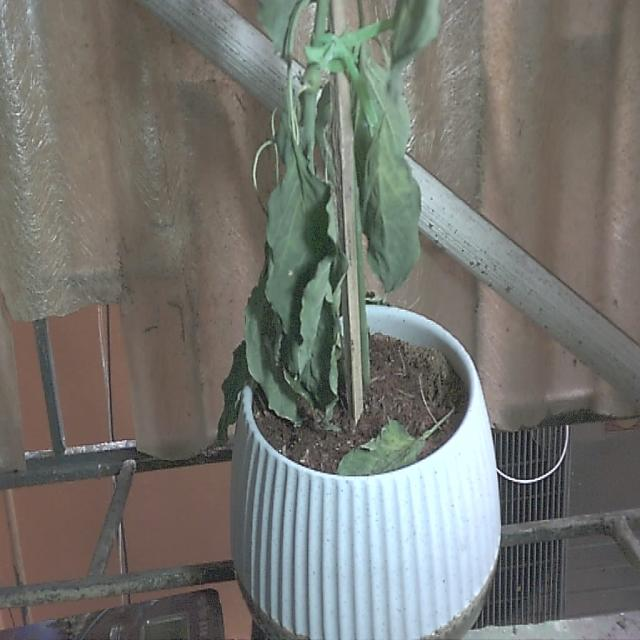Leaf: (355, 54, 420, 291), (265, 148, 330, 334), (361, 109, 420, 292), (245, 275, 297, 421), (337, 420, 423, 475), (392, 0, 440, 72), (219, 341, 251, 439), (259, 0, 299, 55)
